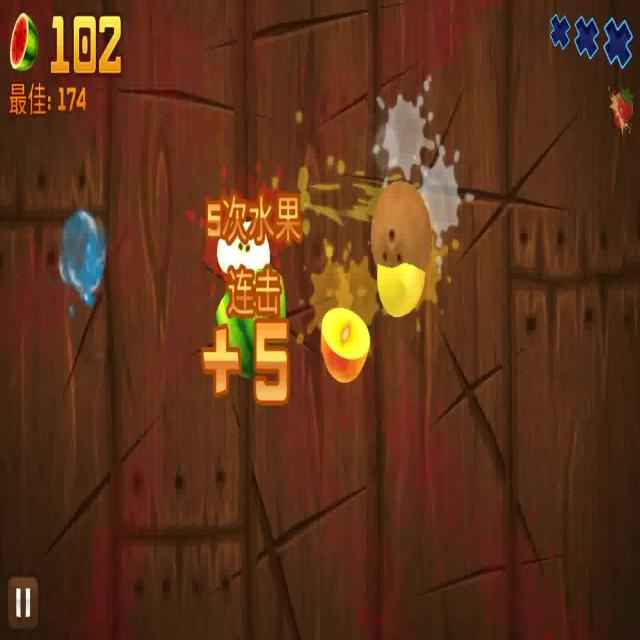fruit: (361, 171, 435, 278), (210, 291, 296, 379), (313, 299, 369, 382), (210, 220, 278, 276), (374, 264, 429, 316)
